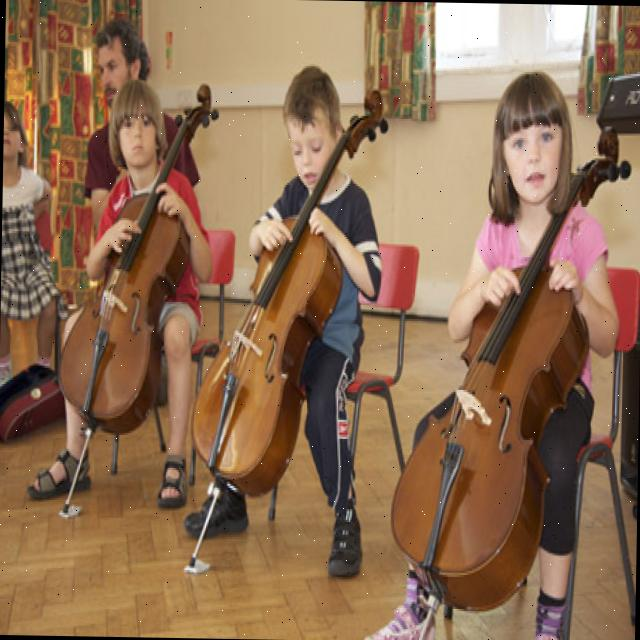cello: (388, 121, 635, 614), (188, 85, 392, 502), (54, 81, 222, 438)
